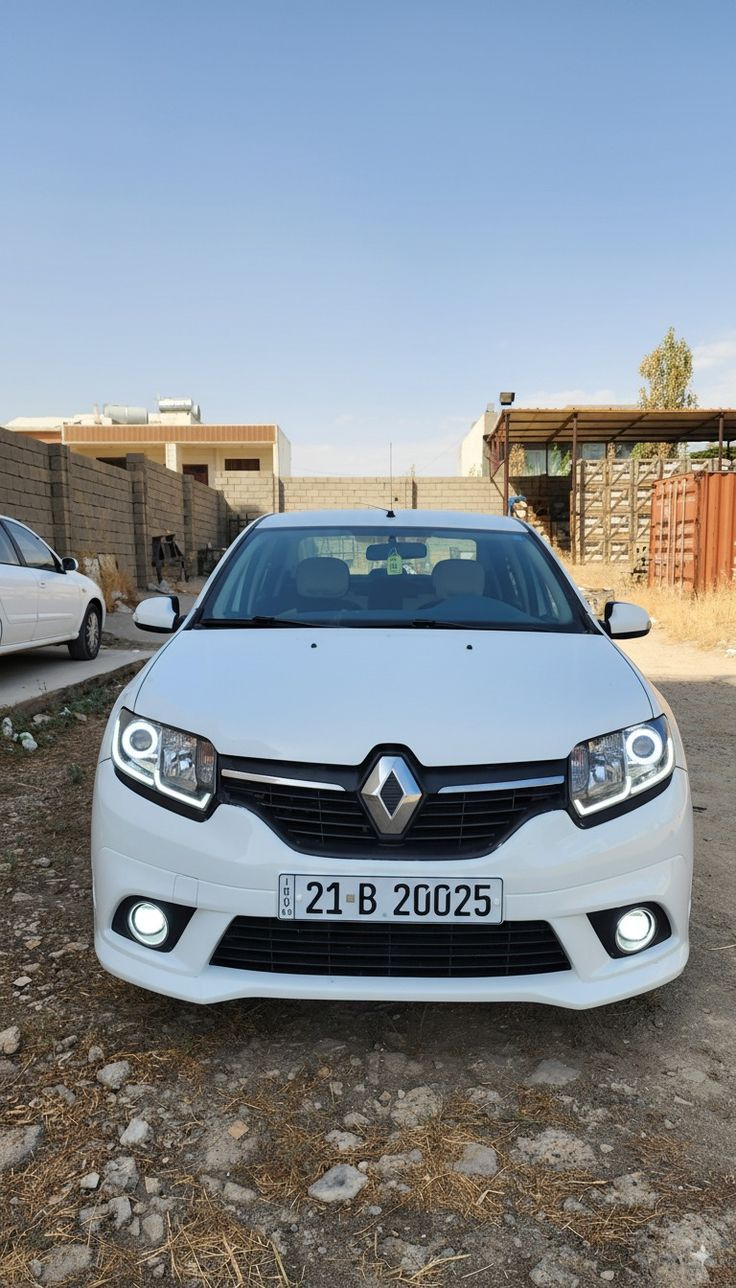plate: (276, 869, 509, 925)
